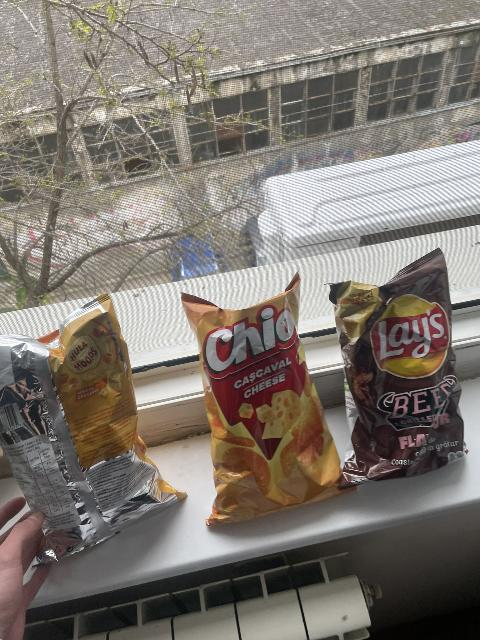Chio Cascaval 125g: (183, 275, 352, 527)
Chio Hula Hoops Cheese 70g: (2, 289, 186, 562)
Lays Beef Grilled Ribs 125g: (325, 249, 459, 479)
